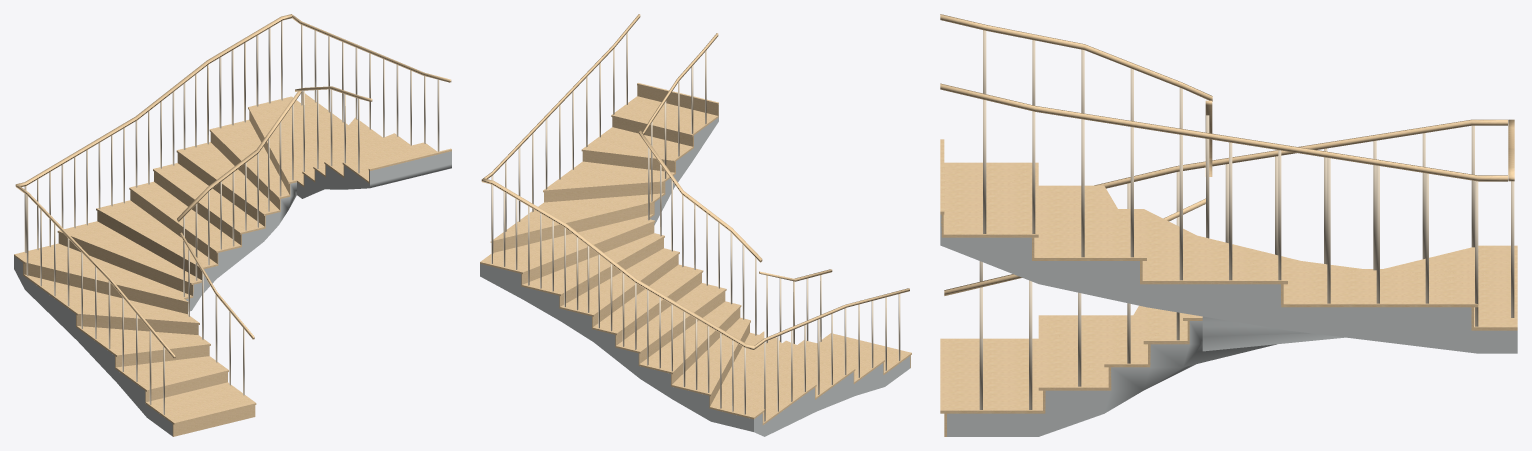
Rendered from sh-contrib-staircase-u2h.glb.
3 renders of one model, left to right at view 1: azimuth 30°, elevation 25°; view 2: azimuth 150°, elevation 25°; view 3: azimuth 270°, elevation 25°, orthographic. The views are drawn at different scales.
Visible parts, largest first — view 1: 31_31, 7_7, 12_12; view 2: 31_31, 7_7, 12_12; view 3: 31_31, 12_12, 7_7.
Boxes of the visible parts, x1,y1,x2,y2 form: 31_31: (14,14,451,436); 7_7: (24,21,439,414); 12_12: (14,151,451,436); 31_31: (480,14,911,425); 7_7: (491,32,900,421); 12_12: (480,105,910,436); 31_31: (940,14,1517,436); 12_12: (940,214,1517,436); 7_7: (979,30,1514,409).
Bounding box in the file's own units: 1 × 1 × 1.
Materials: 3 (1 with a texture image).
